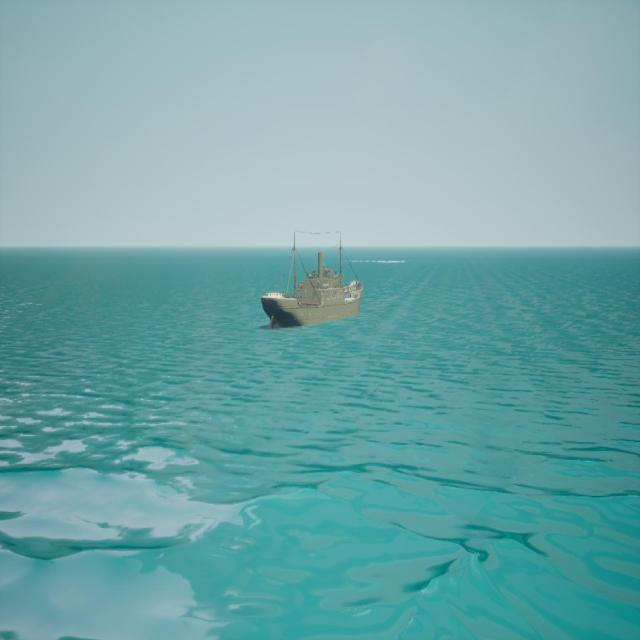fishing ship: (260, 231, 365, 330)
